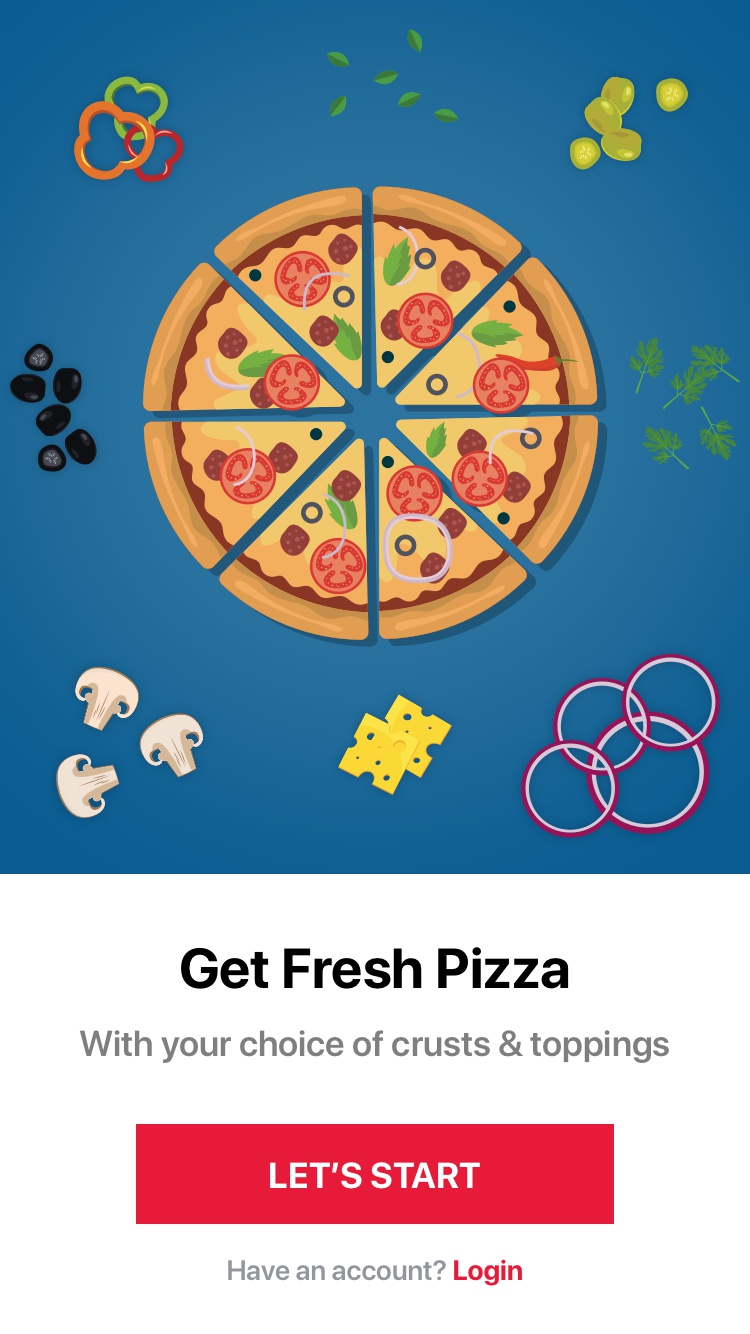Image: (1, 1, 750, 875)
Text: (79, 1028, 671, 1065), (180, 945, 570, 991), (227, 1258, 524, 1287)
TextButton: (136, 1123, 615, 1225)
